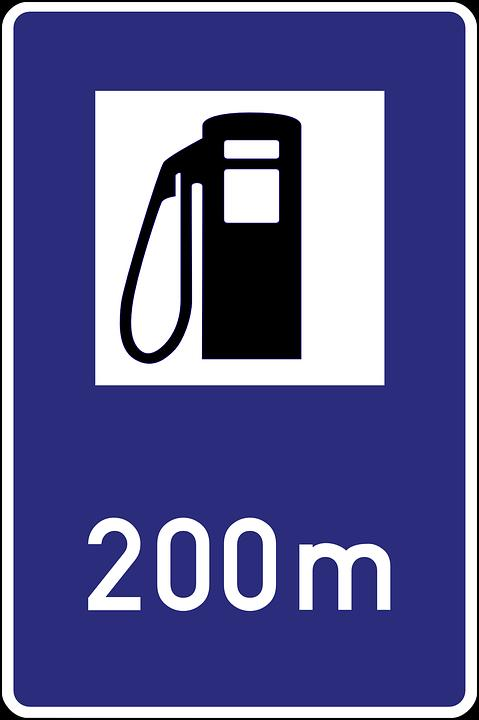Petrol Pump- Gas Station: (32, 55, 419, 672)
